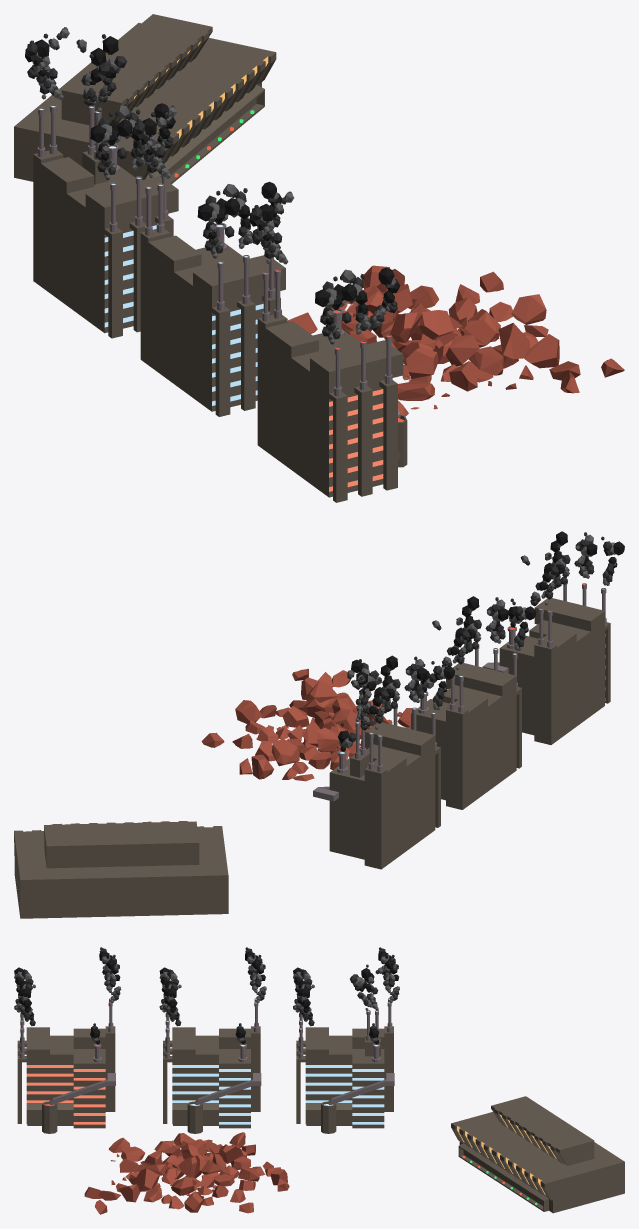
File: dare52.glb
3 views of the same model, one above another, from view 1: azimuth 30°, elevation 25°; view 2: azimuth 150°, elevation 25°; view 3: azimuth 270°, elevation 25° (orthographic). The views are drawn at different scales.
Visible parts, largest first — view 1: Icosphere.006_cell.070, Cube, Cube.039, Cube.046, Cube.042, Cube.001, Cube.015, Cube.004, Cube.045, Cube.011, Cube.009, Cube.041 (+15 smaller); view 2: Cube, Icosphere.006_cell.070, Cube.039, Cube.009, Cube.045, Cube.011, Cube.008, Cube.012, Cube.044, Refinery (scaled and at origin), Refinery (scaled and at origin).001, Refinery (scaled and at origin).003 (+9 smaller); view 3: Icosphere.006_cell.070, Cube, Cube.039, Cube.045, Cube.011, Cube.009, Cube.037, Refinery (scaled and at origin), Refinery (scaled and at origin).001, Refinery (scaled and at origin).003, Cube.003, Cube.016 (+28 smaller).
Boxes of the visible parts, box(x1,y1,x2,y2) form: Icosphere.006_cell.070: box(287, 265, 624, 416); Cube: box(14, 23, 276, 181); Cube.039: box(61, 14, 212, 126); Cube.046: box(329, 380, 397, 502); Cube.042: box(310, 380, 383, 497); Cube.001: box(212, 295, 280, 416); Cube.015: box(193, 294, 263, 411); Cube.004: box(85, 215, 156, 333); Cube.045: box(265, 329, 359, 469); Cube.011: box(148, 243, 242, 383); Cube.009: box(41, 164, 135, 305); Cube.041: box(310, 340, 403, 393); Cube: box(14, 826, 228, 918); Icosphere.006_cell.070: box(201, 669, 411, 781); Cube.039: box(44, 821, 199, 868); Cube.009: box(329, 758, 406, 864); Cube.045: box(499, 635, 576, 740); Cube.011: box(411, 699, 487, 805); Cube.008: box(364, 766, 387, 869); Cube.012: box(446, 707, 468, 809); Cube.044: box(534, 642, 556, 744); Refinery (scaled and at origin): box(529, 620, 590, 726); Refinery (scaled and at origin).001: box(442, 685, 502, 791); Refinery (scaled and at origin).003: box(366, 744, 420, 850); Icosphere.006_cell.070: box(84, 1132, 289, 1214); Cube: box(451, 1112, 624, 1213); Cube.039: box(491, 1096, 594, 1165); Cube.045: box(73, 1049, 105, 1128); Cube.011: box(219, 1049, 250, 1128); Cube.009: box(352, 1049, 384, 1128); Cube.037: box(458, 1143, 548, 1211); Refinery (scaled and at origin): box(50, 1035, 73, 1100); Refinery (scaled and at origin).001: box(195, 1035, 218, 1100); Refinery (scaled and at origin).003: box(329, 1035, 352, 1100); Cube.003: box(305, 1027, 328, 1062); Cube.016: box(172, 1027, 195, 1062).
Size of what is drawn, in the model's own units: 2.55 by 1.66 by 5.66.
